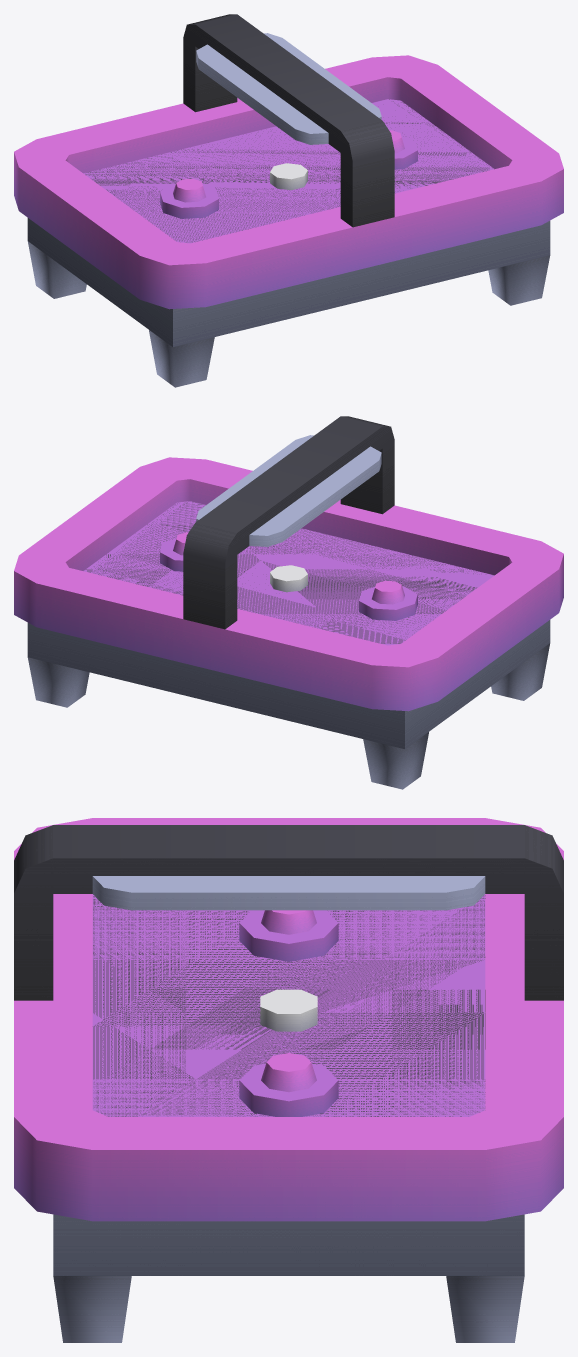
The model's file is air-hockey.glb.
3 views of the same model, one above another, from view 1: azimuth 30°, elevation 25°; view 2: azimuth 150°, elevation 25°; view 3: azimuth 270°, elevation 25° (orthographic). The views are drawn at different scales.
Parts seen in each view (by area): view 1: air-hockey, player-b, puck, player-a; view 2: air-hockey, player-b, puck, player-a; view 3: air-hockey, player-a, player-b, puck.
Part boxes in pixels (left/top/right/bottom): air-hockey: left=14, top=14, right=563, bottom=387; player-b: left=160, top=178, right=218, bottom=218; puck: left=270, top=163, right=307, bottom=190; player-a: left=389, top=130, right=417, bottom=169; air-hockey: left=14, top=416, right=563, bottom=789; player-b: left=359, top=580, right=417, bottom=620; puck: left=270, top=565, right=307, bottom=592; player-a: left=160, top=532, right=188, bottom=571; air-hockey: left=14, top=818, right=563, bottom=1342; player-a: left=239, top=1053, right=338, bottom=1116; player-b: left=239, top=910, right=338, bottom=961; puck: left=260, top=989, right=317, bottom=1031.
Size of the model in its own units: 1 by 0.5 by 0.7.
Materials: 1 (1 with a texture image).
